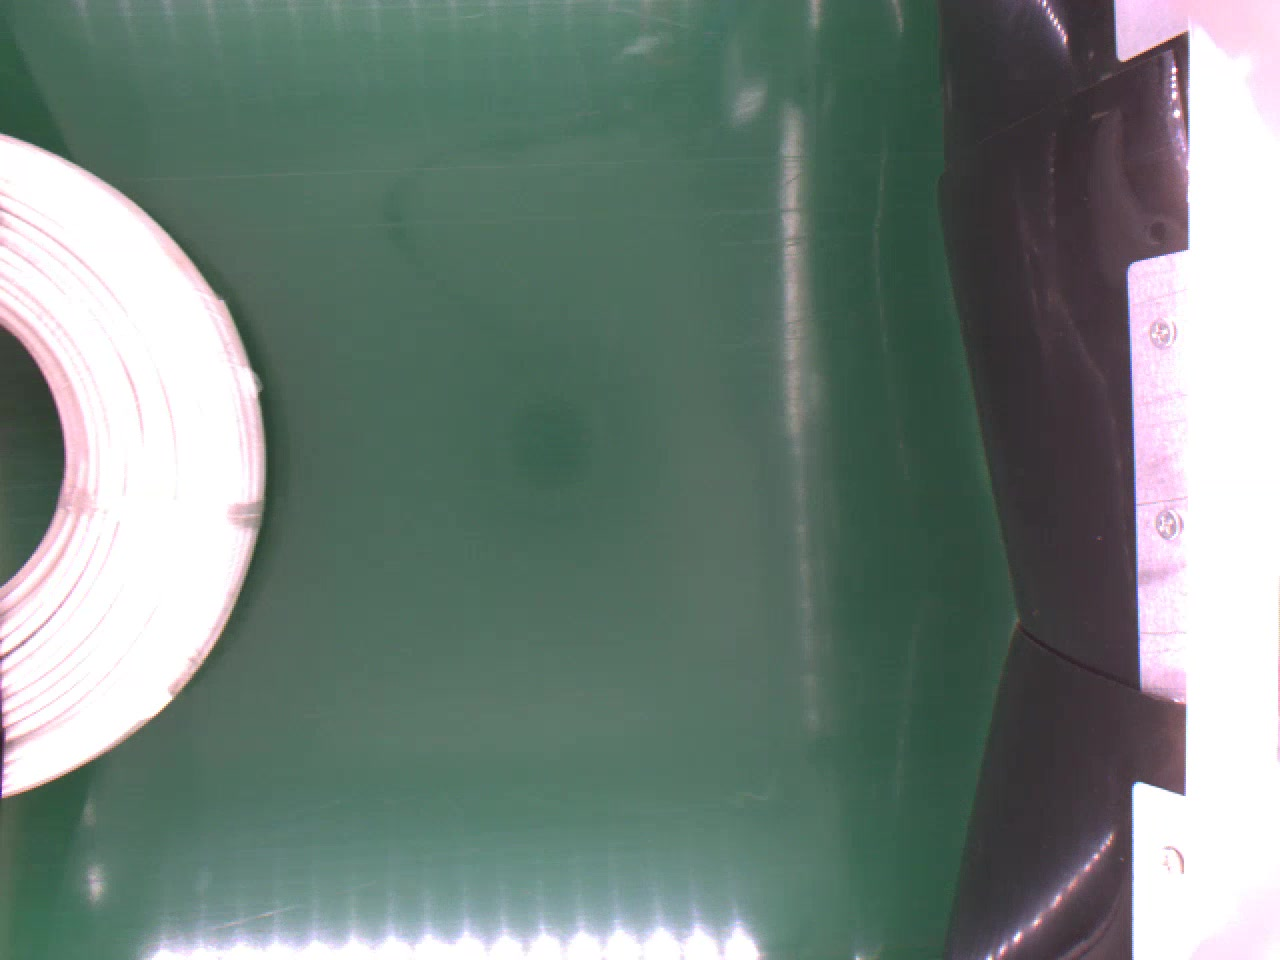white: (0, 134, 272, 798)
